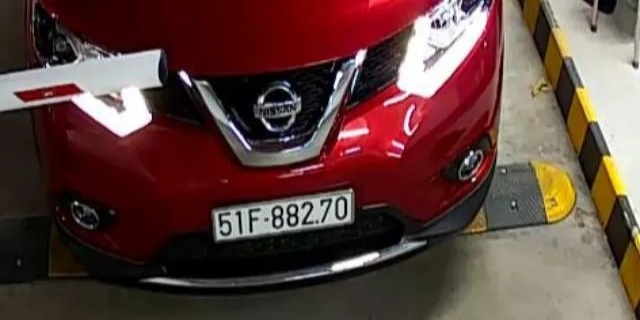bien_so: (213, 197, 353, 235)
